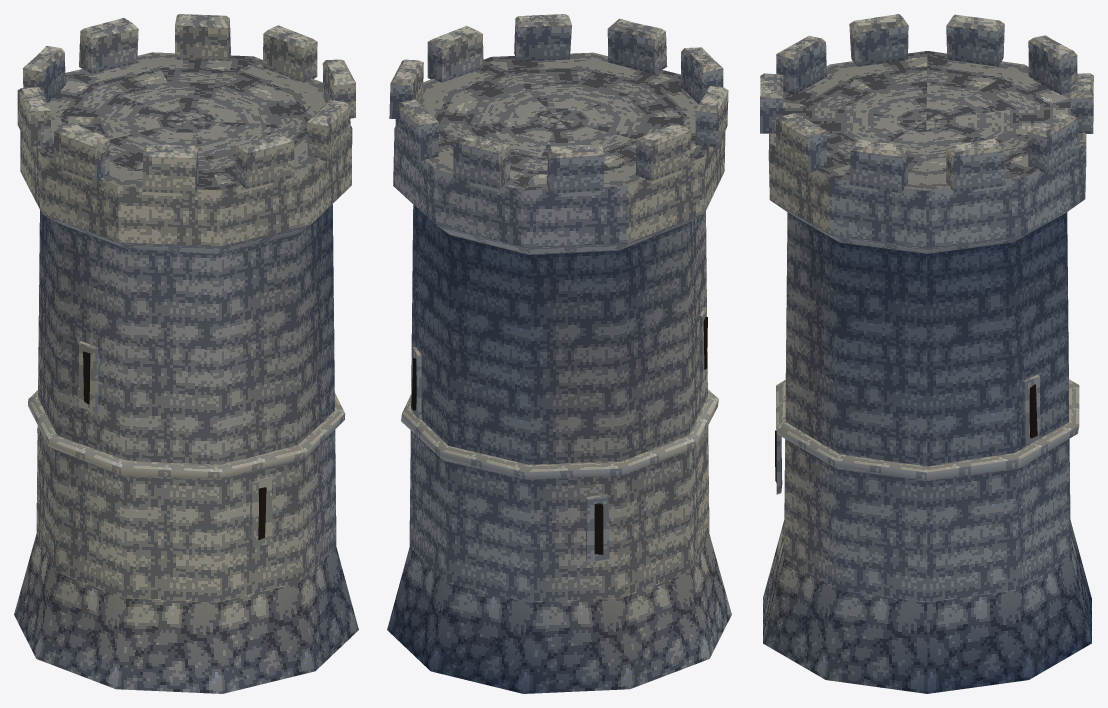
Rendered from cst.tower_round.glb.
3 views of the same model, side by side, from view 1: azimuth 30°, elevation 25°; view 2: azimuth 150°, elevation 25°; view 3: azimuth 270°, elevation 25° (orthographic).
Parts seen in each view (by area): view 1: kit_drum, kit_top, kit_detail; view 2: kit_drum, kit_top, kit_detail; view 3: kit_drum, kit_top, kit_detail.
Part boxes in pixels (x1=…): kit_drum: x1=14, y1=204, x2=358, y2=693; kit_top: x1=17, y1=14, x2=355, y2=254; kit_detail: x1=28, y1=341, x2=345, y2=546; kit_drum: x1=387, y1=205, x2=731, y2=693; kit_top: x1=389, y1=14, x2=728, y2=254; kit_detail: x1=401, y1=307, x2=718, y2=562; kit_drum: x1=763, y1=212, x2=1091, y2=693; kit_top: x1=760, y1=14, x2=1093, y2=253; kit_detail: x1=775, y1=374, x2=1079, y2=494.
Bounding box in the file's own units: 6.9 × 11.85 × 6.66.
Materials: 5 (5 with a texture image).
